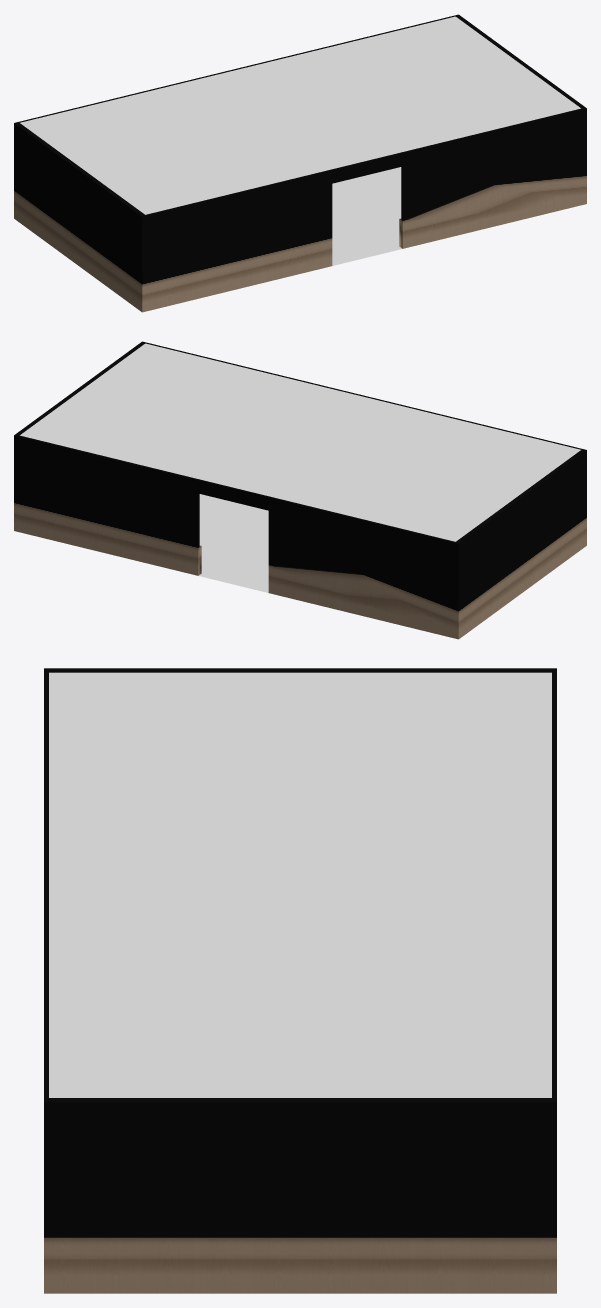
Rendered from Room_02.fbx.
3 renders of one model, top to bottom at view 1: azimuth 30°, elevation 25°; view 2: azimuth 150°, elevation 25°; view 3: azimuth 270°, elevation 25°, orthographic. The views are drawn at different scales.
Parts seen in each view (by area): view 1: Plane, Plane.002, Plane.001; view 2: Plane, Plane.002, Plane.001; view 3: Plane, Plane.002.
Boxes of the visible parts, x1,y1,x2,y2 form: Plane: (20,16,580,214); Plane.002: (14,14,586,312); Plane.001: (332,167,402,265); Plane: (20,343,580,541); Plane.002: (14,341,586,639); Plane.001: (198,494,268,592); Plane: (49,672,551,1097); Plane.002: (44,668,556,1293).
Size of the model in its own units: 408 by 83.91 by 204.
